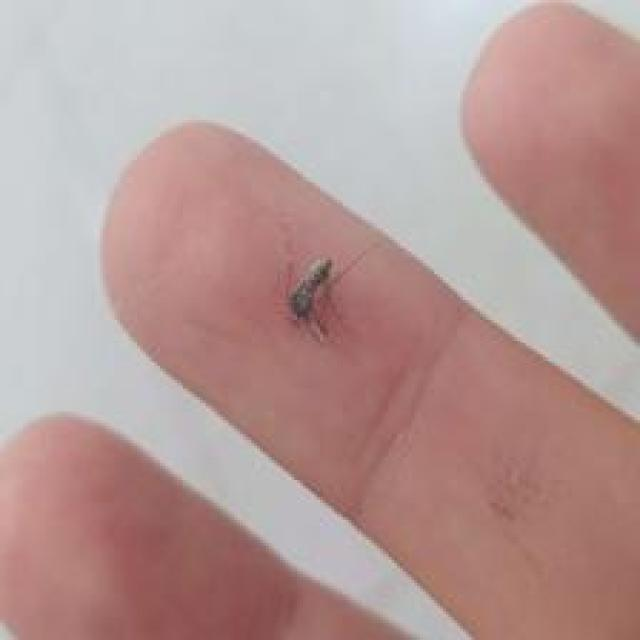Aedes albopictus: (286, 254, 334, 340)
